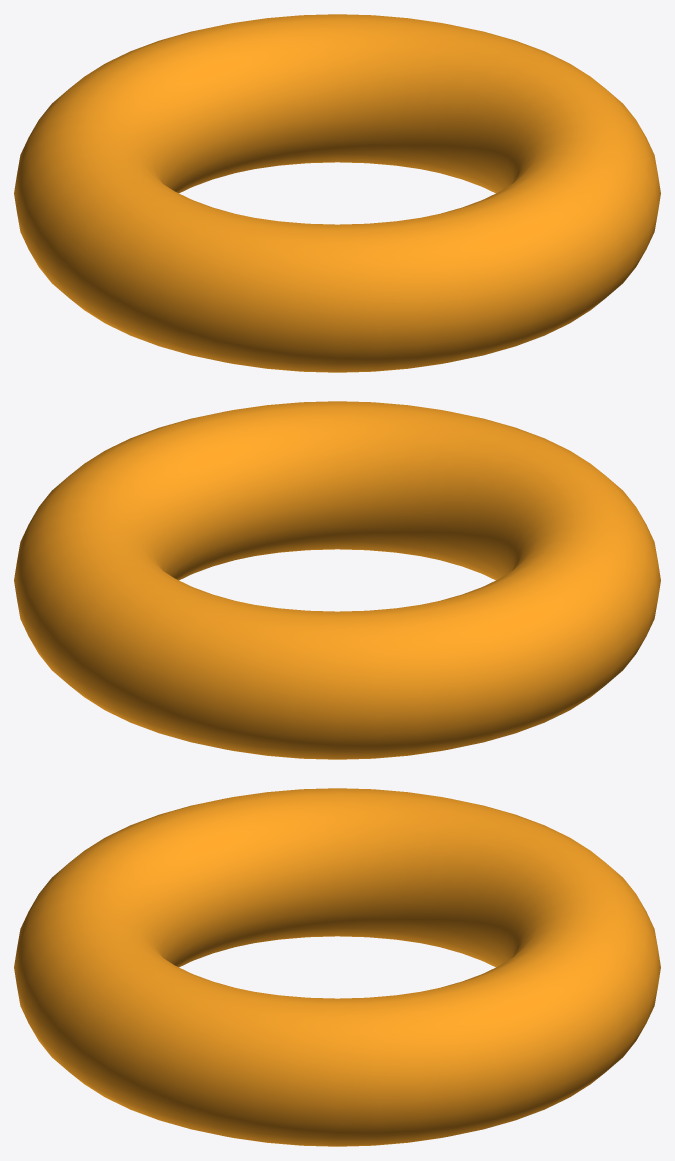
3 renders of one model, top to bottom at view 1: azimuth 30°, elevation 25°; view 2: azimuth 150°, elevation 25°; view 3: azimuth 270°, elevation 25°, orthographic.
Visible parts, largest first — view 1: SM_Primitive_Torus_05; view 2: SM_Primitive_Torus_05; view 3: SM_Primitive_Torus_05.
Boxes of the visible parts, x1=… form: SM_Primitive_Torus_05: x1=14, y1=14, x2=660, y2=372; SM_Primitive_Torus_05: x1=14, y1=401, x2=660, y2=759; SM_Primitive_Torus_05: x1=14, y1=788, x2=660, y2=1146.
Bounding box in the file's own units: 99.73 × 23.02 × 99.73.
